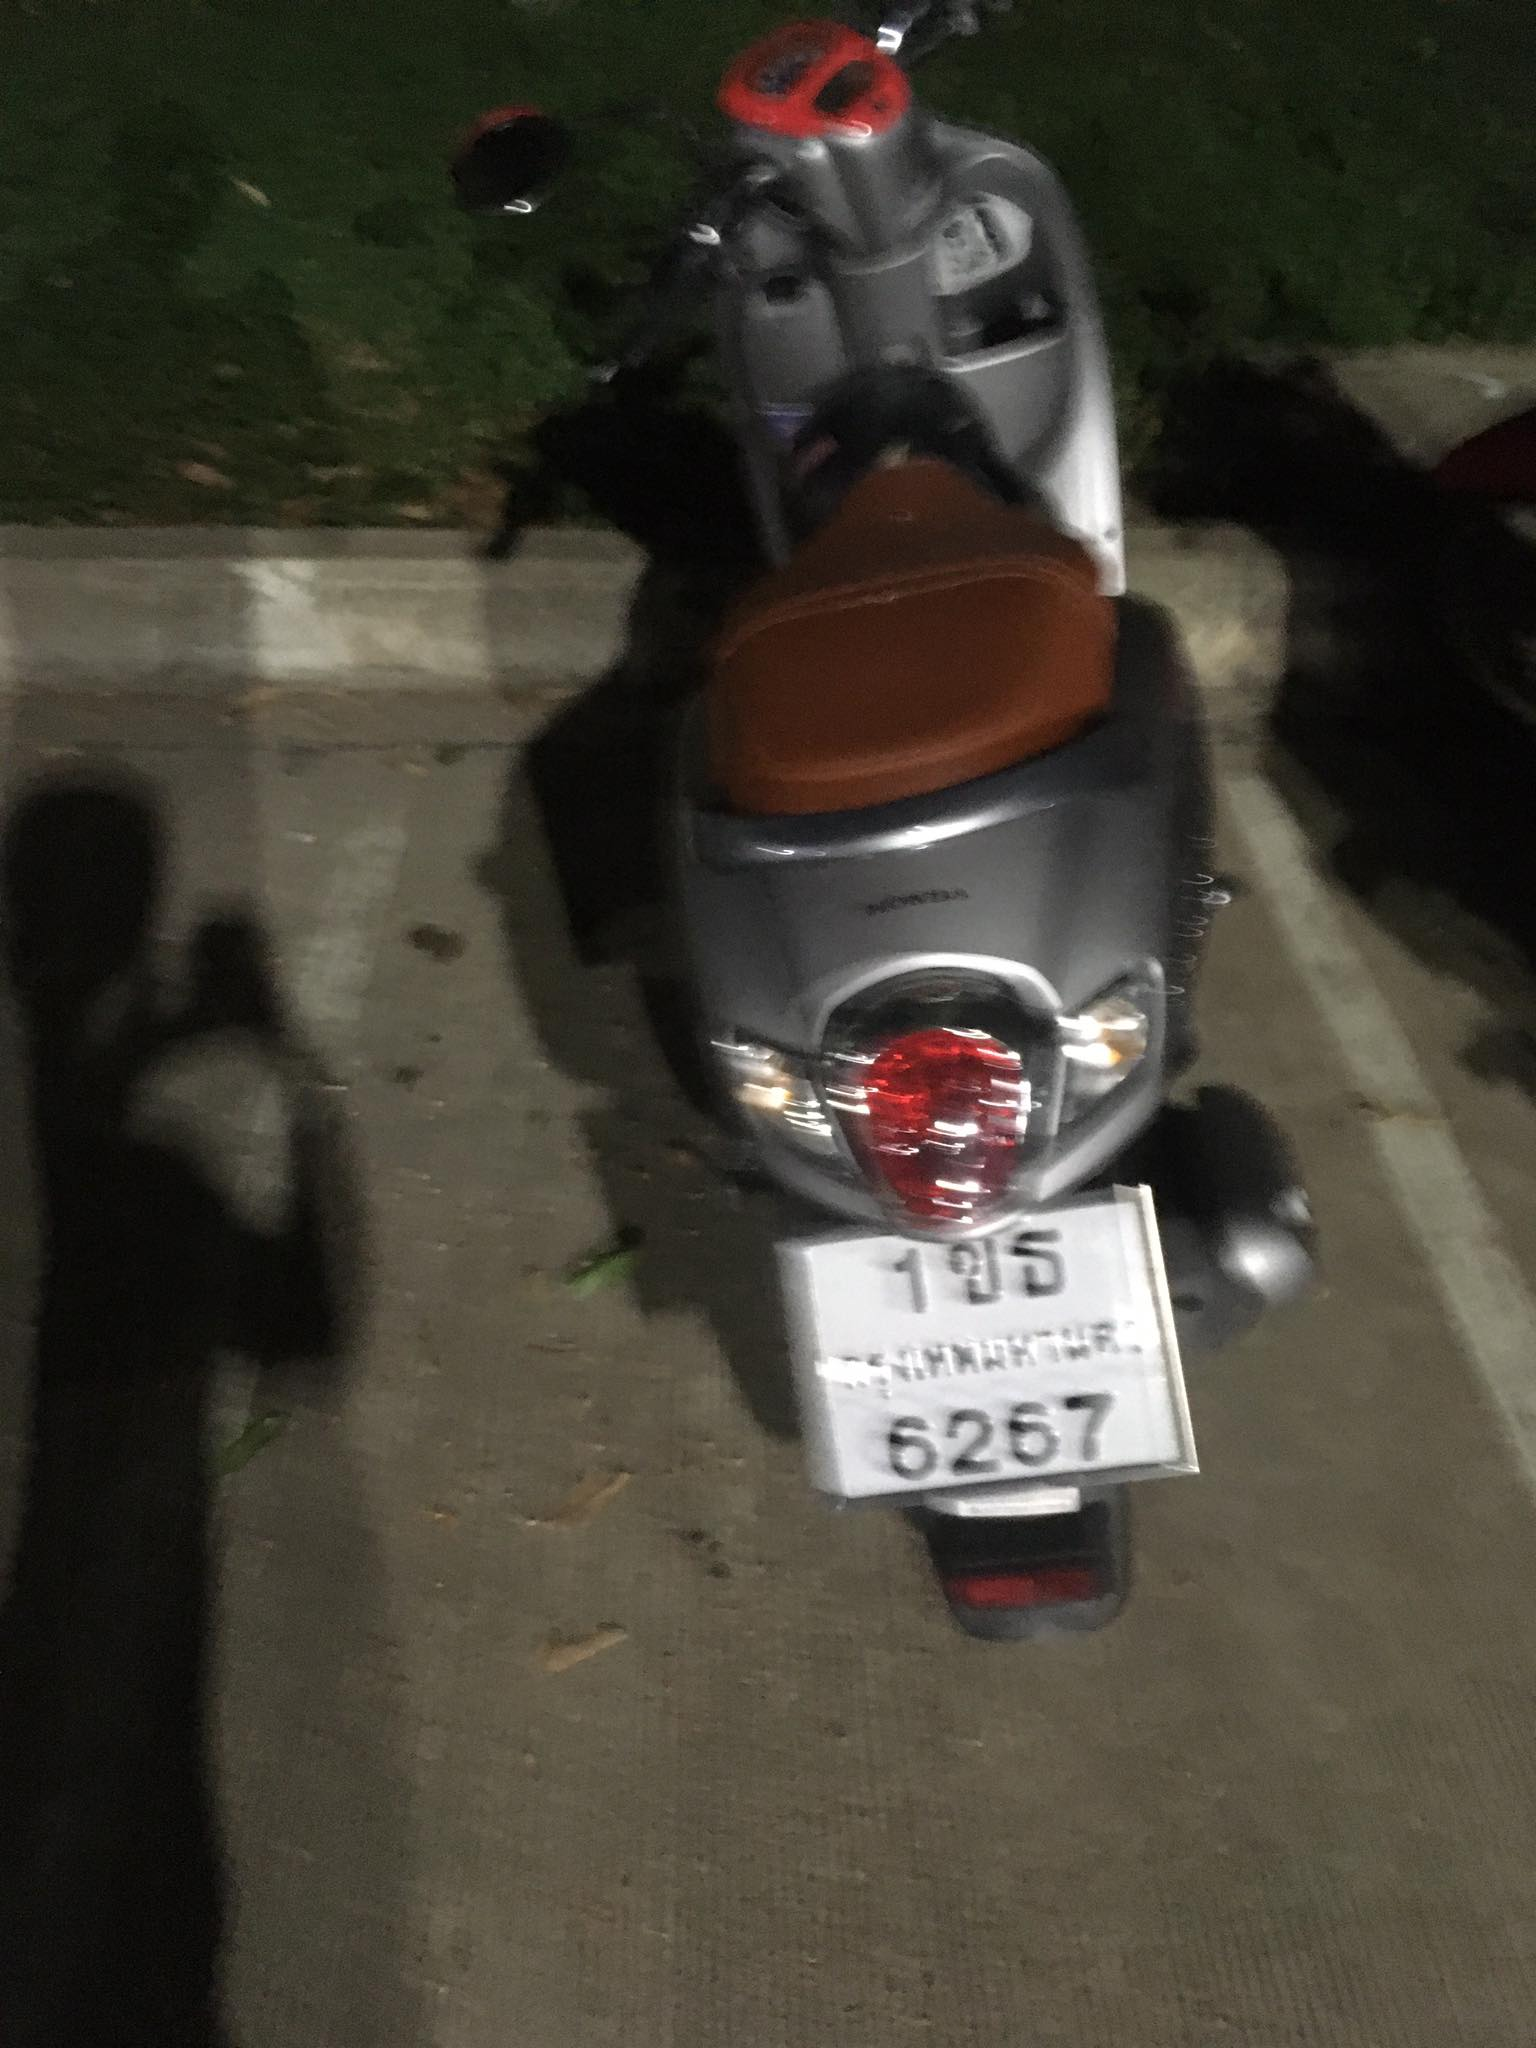line1: (883, 1234, 1075, 1314)
line2: (824, 1317, 1160, 1395)
line3: (874, 1392, 1117, 1488)
